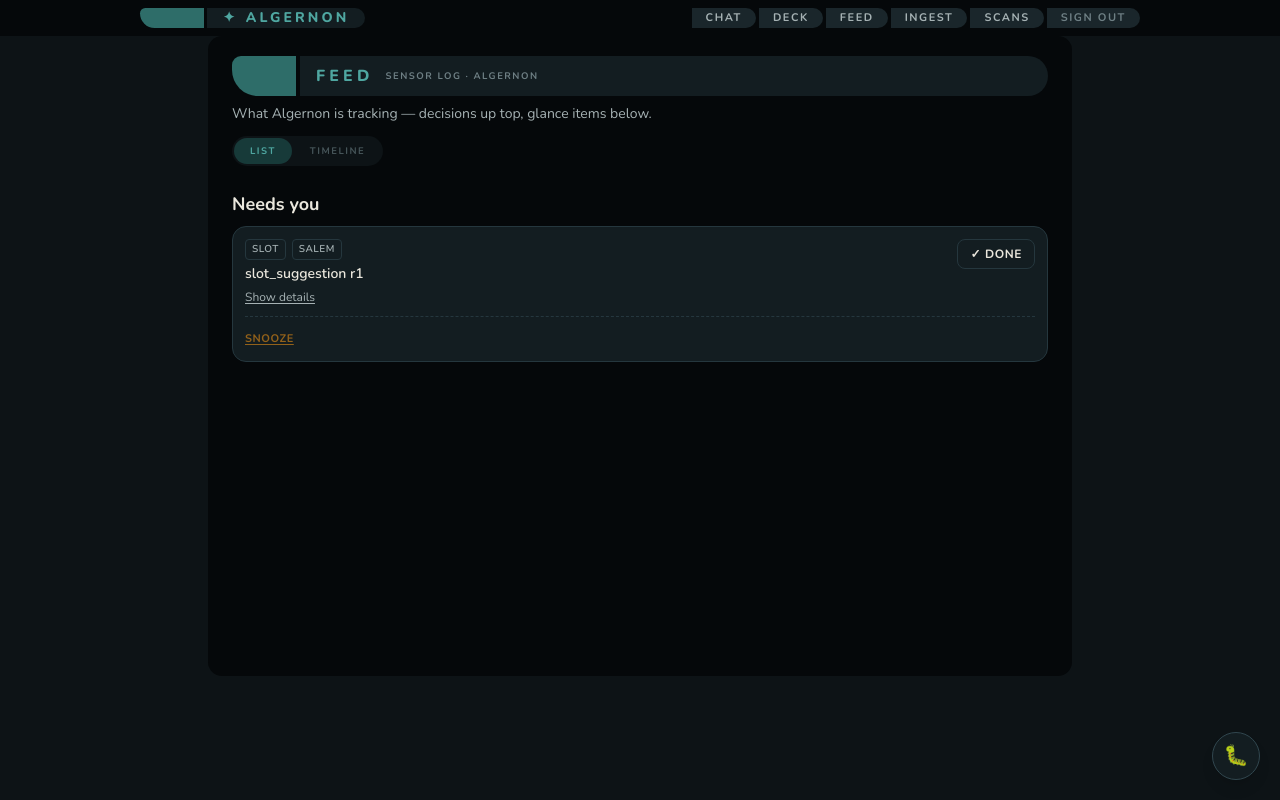
Scenario: FeedPage — needs-you reads the SAME truth as the row ✓ (no one-fetch lag) › completing the last slot clears needs-you in the SAME render — no refetch needed
This screenshot has width=1280, height=800.
expect the list with test id "feed-pending" is shown: met, box x1=232 y1=226 x2=1048 y2=362
Click the button with test id "feed-row-complete". click: (996, 254)
box: x1=957 y1=239 x2=1035 y2=269
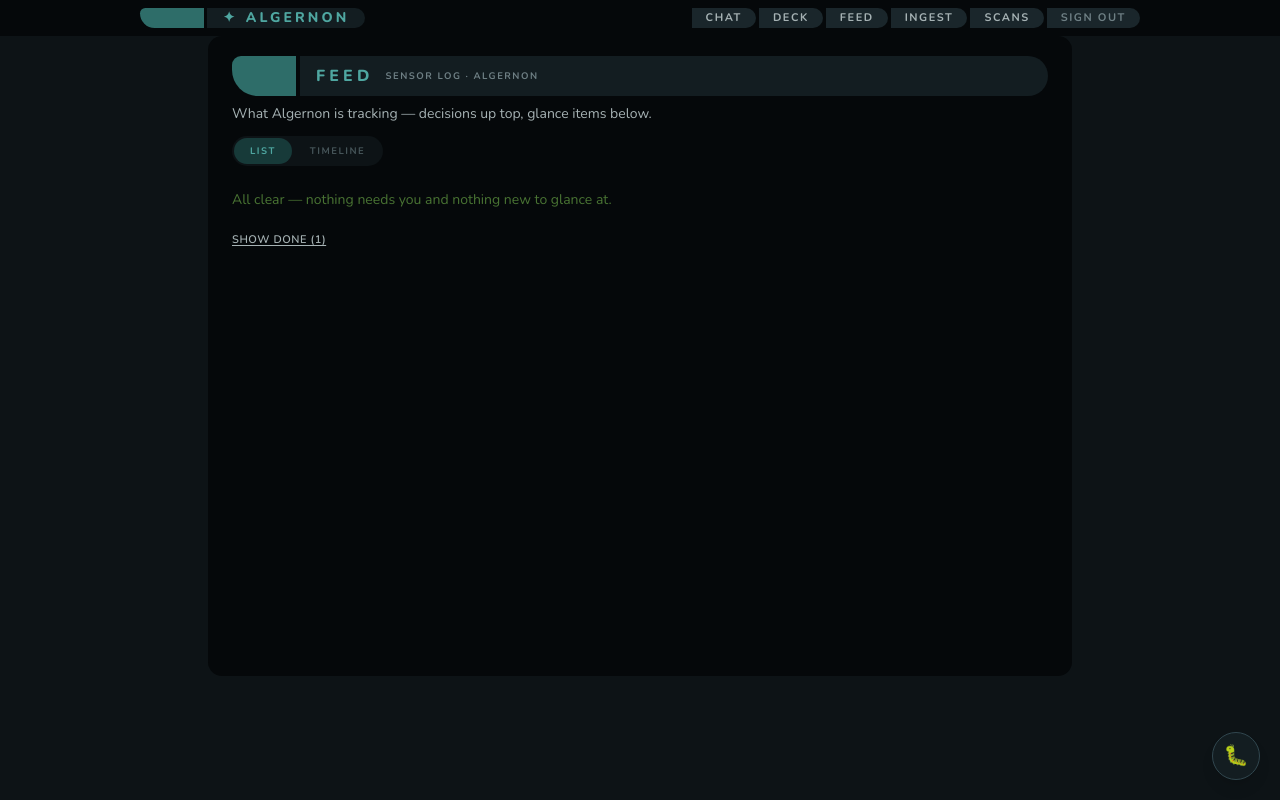
expect the list with test id "feed-pending" is gone: met
expect the element with test id "feed-needs-you" is gone: met
expect the text "All clear — nothing needs you and nothing new to glance at." is shown: met, box x1=232 y1=190 x2=612 y2=209
